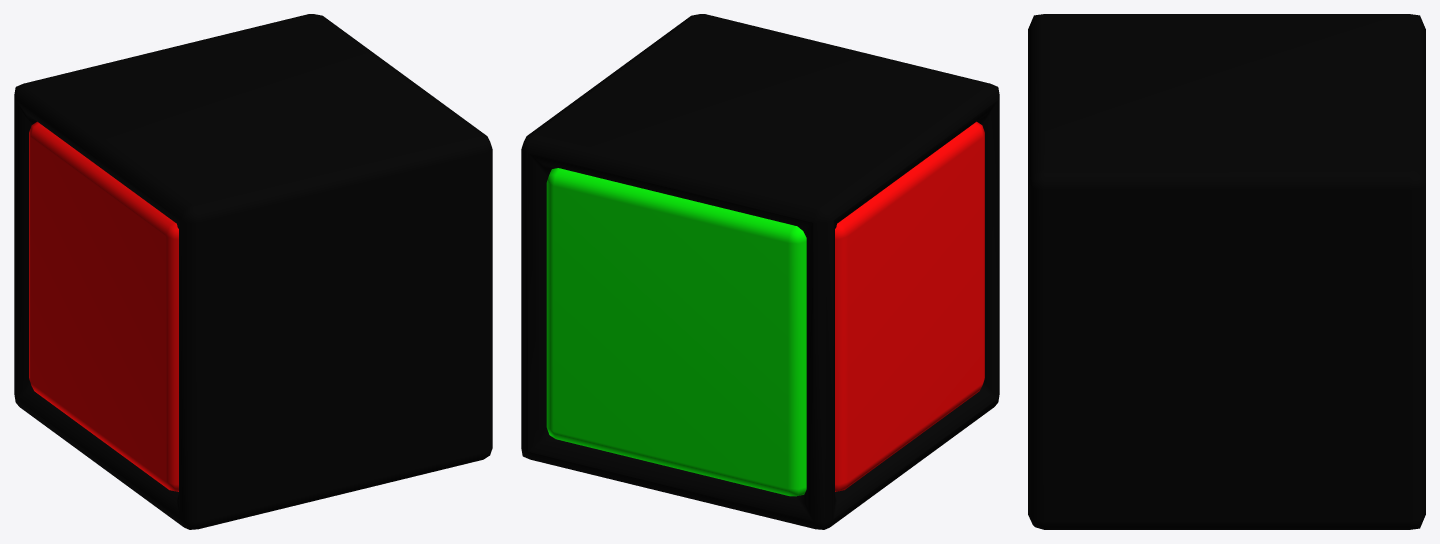
3 renders of one model, left to right at view 1: azimuth 30°, elevation 25°; view 2: azimuth 150°, elevation 25°; view 3: azimuth 270°, elevation 25°, orthographic. The views are drawn at different scales.
Parts seen in each view (by area): view 1: Cube.008; view 2: Cube.008; view 3: Cube.008.
Boxes of the visible parts, <box> form: Cube.008: <box>14,14,492,529</box>; Cube.008: <box>521,14,999,529</box>; Cube.008: <box>1028,14,1425,529</box>.
Size of the model in its own units: 2 by 2 by 2.
